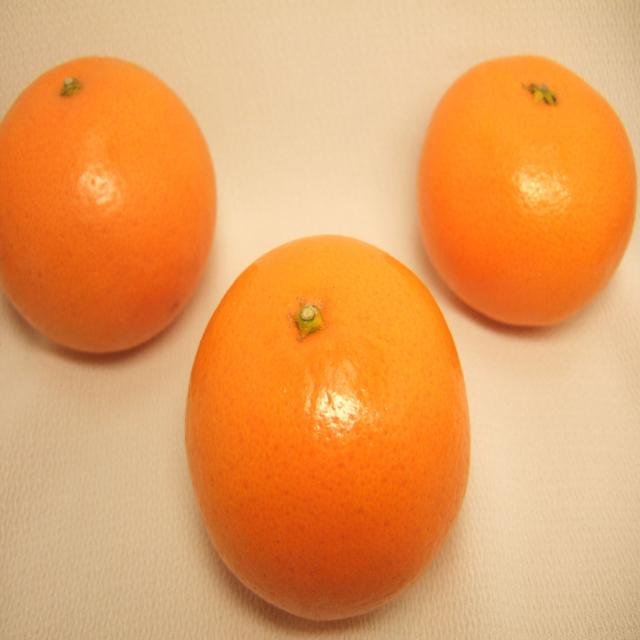Orange: (183, 233, 472, 624), (0, 47, 222, 356), (413, 51, 640, 333)
